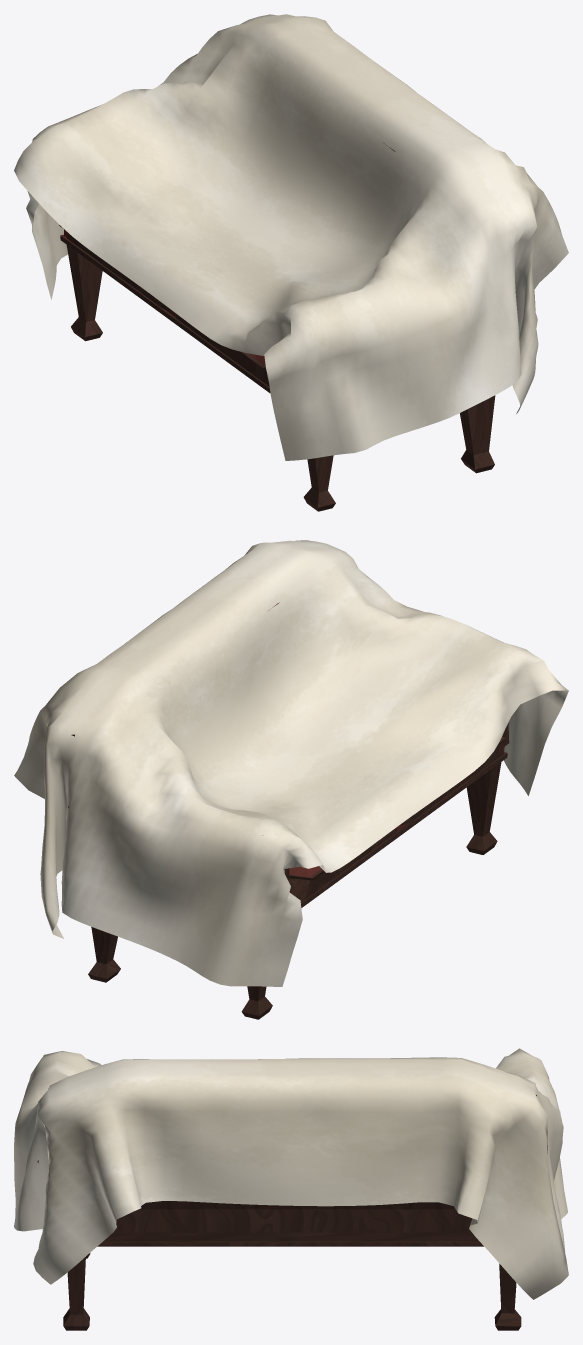
File: örtülü koltuk.fbx
3 views of the same model, one above another, from view 1: azimuth 30°, elevation 25°; view 2: azimuth 150°, elevation 25°; view 3: azimuth 270°, elevation 25° (orthographic). The views are drawn at different scales.
Visible parts, largest first — view 1: Grid.009, KOLTUK.002; view 2: Grid.009, KOLTUK.002; view 3: Grid.009, KOLTUK.002.
Boxes of the visible parts, box(x1,y1,x2,y2) form: Grid.009: box(14, 14, 568, 460); KOLTUK.002: box(59, 143, 515, 511); Grid.009: box(14, 540, 568, 986); KOLTUK.002: box(68, 602, 509, 1019); Grid.009: box(14, 1048, 568, 1299); KOLTUK.002: box(37, 1095, 536, 1330).
Size of the model in its own units: 274 by 221 by 413.
Materials: 4 (4 with a texture image).
